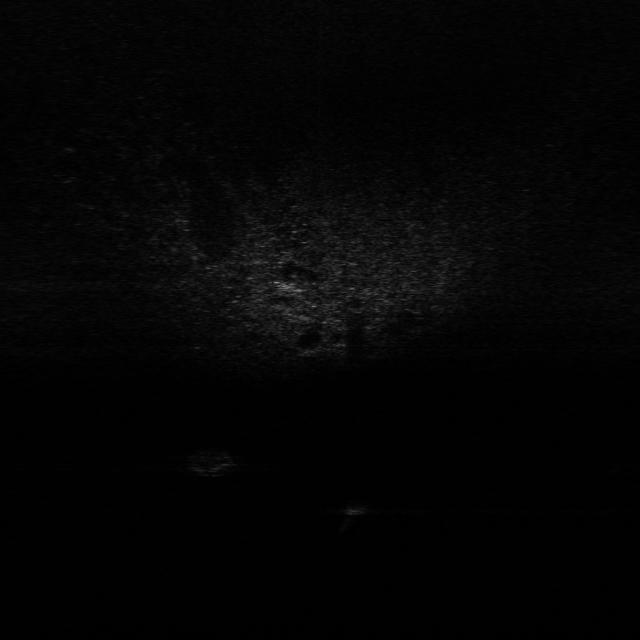circle cage: (184, 446, 233, 478)
cylinder: (339, 497, 363, 535)
